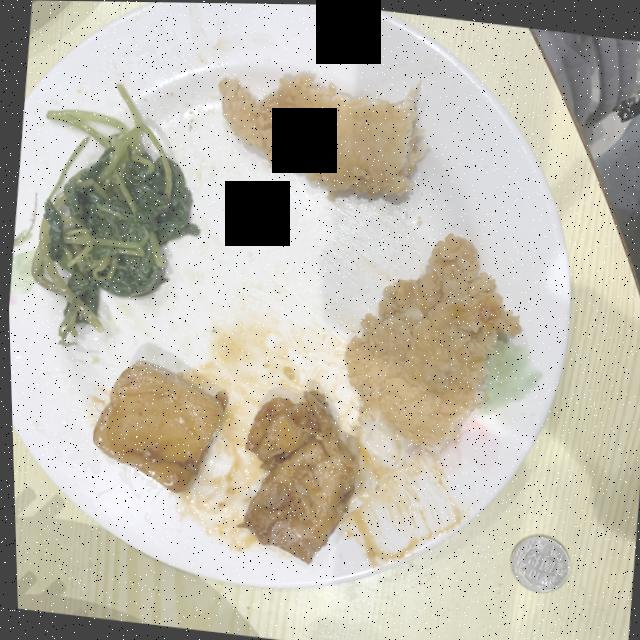coin: (506, 532, 567, 591)
creamy tofu: (236, 389, 355, 562), (90, 359, 225, 492)
fried chicken cutlet: (342, 232, 519, 451), (218, 73, 422, 194)
sweet potato leaves: (29, 88, 197, 343)
